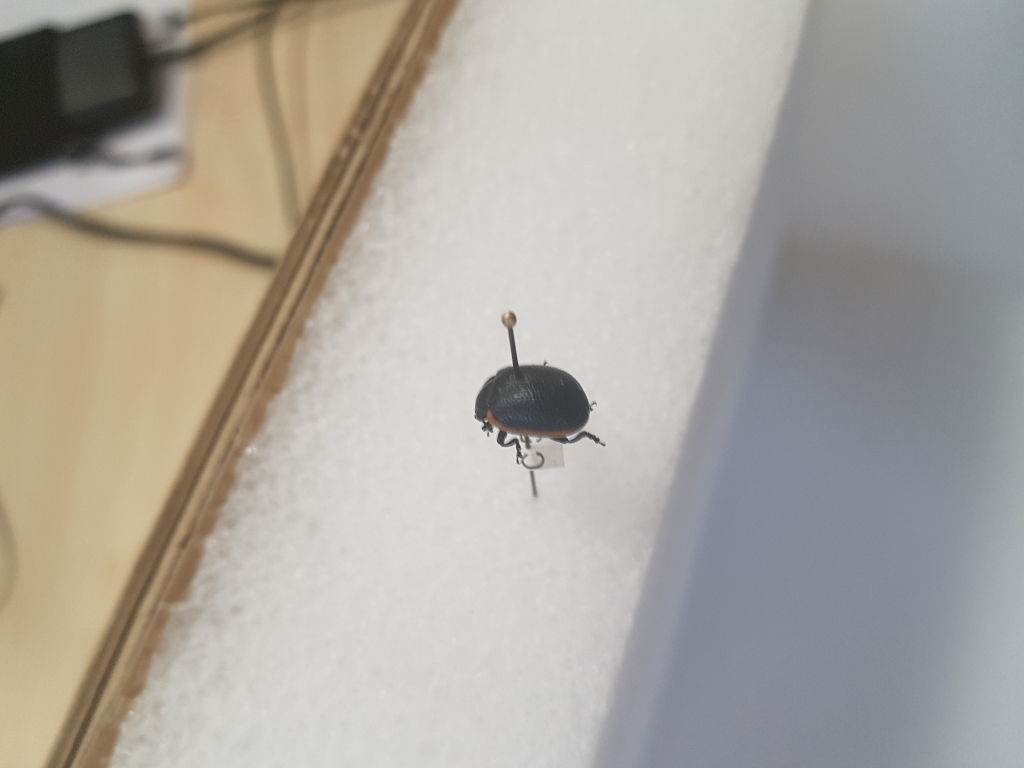Chrysolina_gypsophila: (470, 361, 609, 462)
